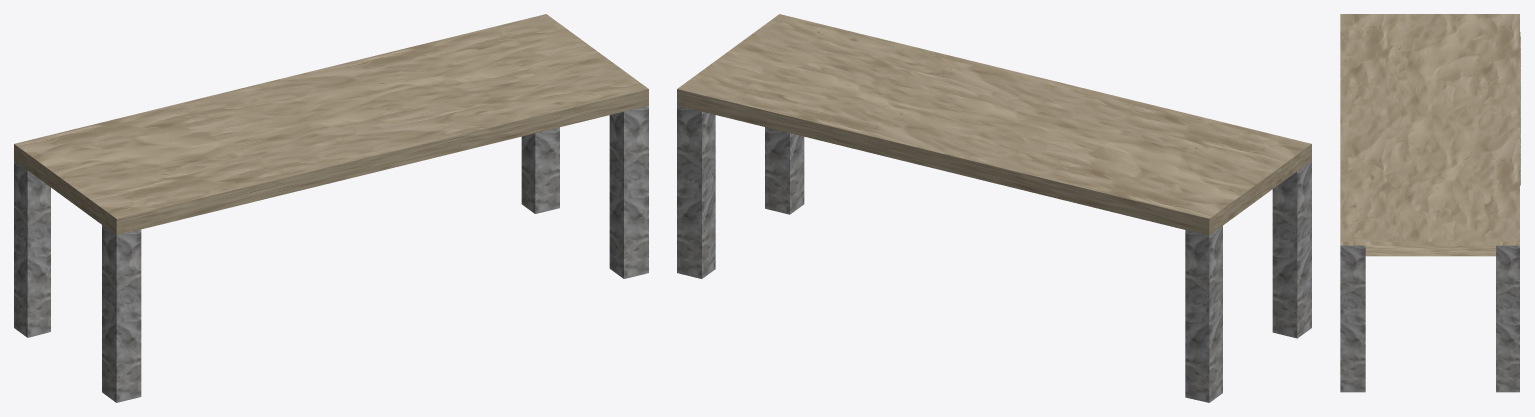
File: table.fbx
The picture shows the model from 3 angles, left to right: view 1: azimuth 30°, elevation 25°; view 2: azimuth 150°, elevation 25°; view 3: azimuth 270°, elevation 25°; orthographic projection. The views are drawn at different scales.
Parts seen in each view (by area): view 1: Table; view 2: Table; view 3: Table.
Boxes of the visible parts, left/top/right/bottom form: Table: left=14, top=14, right=648, bottom=402; Table: left=677, top=14, right=1311, bottom=402; Table: left=1340, top=14, right=1520, bottom=392.
Size of the model in its own units: 3 by 0.9913 by 1.
Materials: 1 (1 with a texture image).
